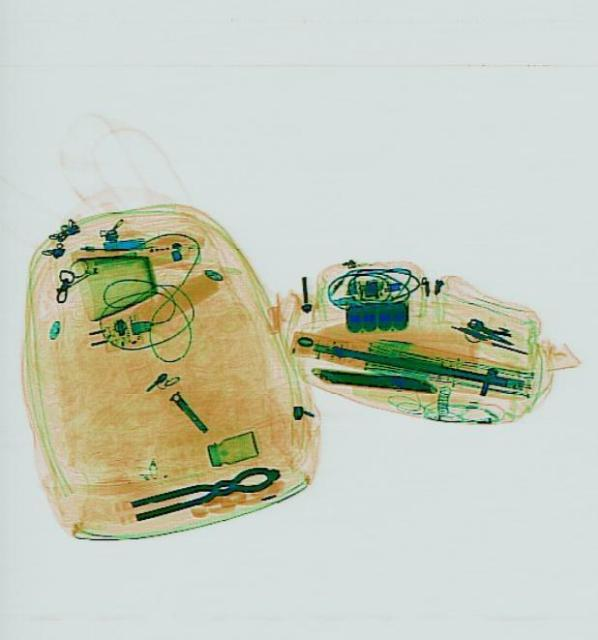Pliers: (127, 461, 278, 521)
